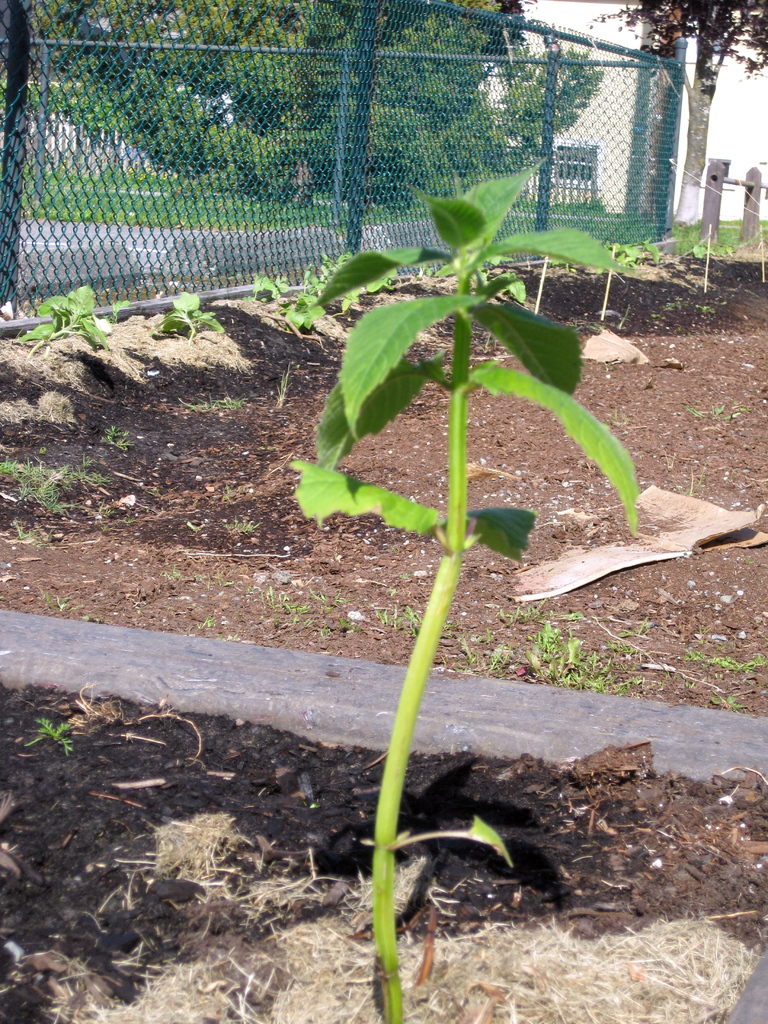Tree: (17, 0, 607, 205)
